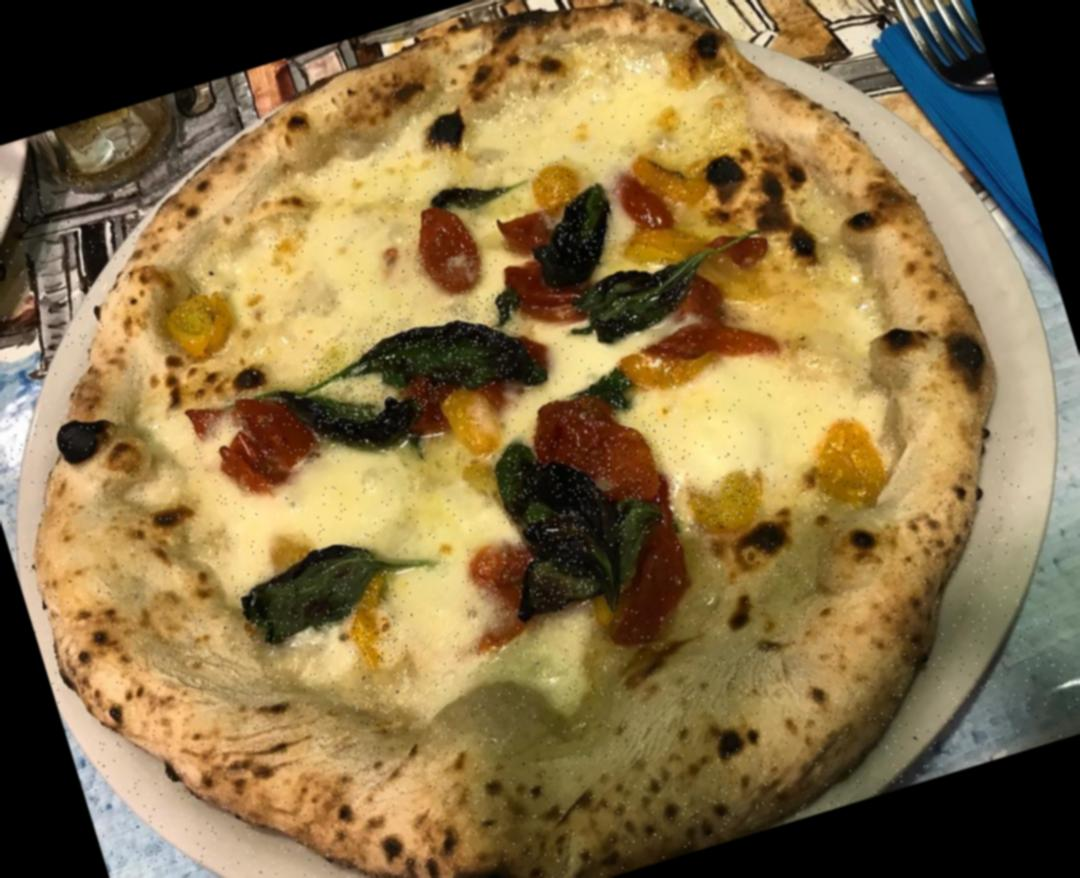Basil: (296, 284, 544, 443), (488, 411, 665, 612), (229, 529, 400, 650), (578, 243, 728, 334), (527, 184, 623, 278)
Peppers: (800, 409, 890, 516), (616, 327, 727, 410), (330, 572, 410, 673), (630, 134, 710, 217), (160, 284, 239, 360), (684, 466, 768, 532), (436, 383, 500, 456), (527, 156, 581, 214), (264, 524, 312, 575)
Pizza: (0, 0, 1080, 878)
Tomatoes: (536, 371, 687, 530), (184, 376, 320, 496), (590, 528, 704, 653), (402, 198, 488, 293), (500, 250, 586, 337), (492, 204, 558, 260), (617, 159, 669, 229)
